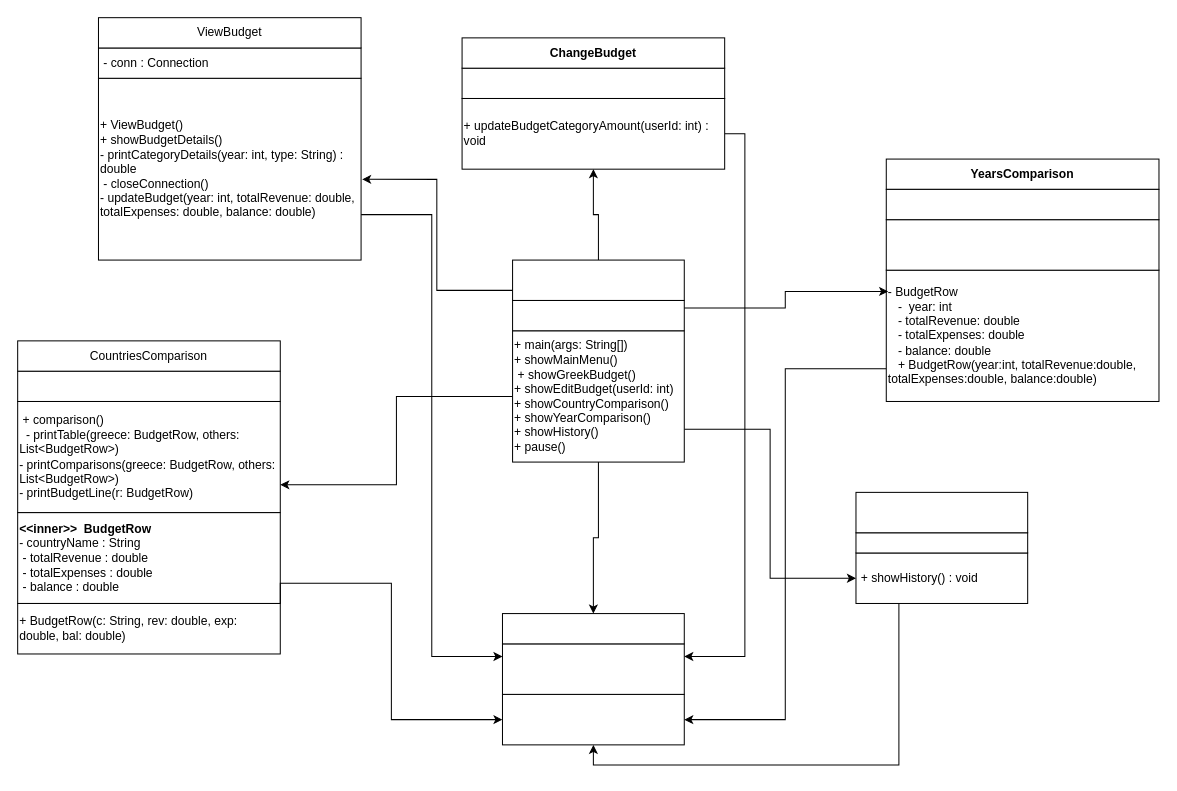
The diagram is 1177 pixels wide and 791 high, and some of its shapes have lost their labels. The centre of each missing label's shape, as x and y in pixels:
+ comparison() : void + printBudgetLine(row: BudgetRow) : void: point (1022, 244)
+ getConnection(): Connection [static]: point (592, 719)
- DB_NAME: String [static]: point (592, 668)
DataConnection: point (592, 628)
HistoryOfChanges: point (941, 512)
Main: point (598, 279)
